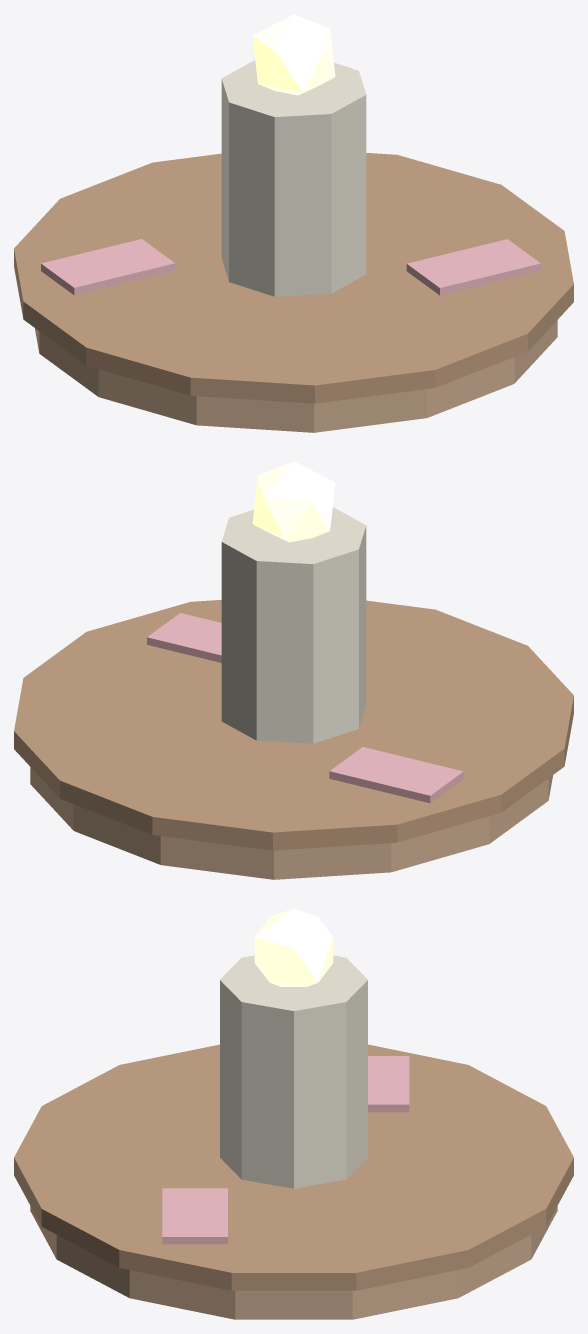
File: 18-Casas_decor_vela_plato.glb
The picture shows the model from 3 angles, top to bottom: view 1: azimuth 30°, elevation 25°; view 2: azimuth 150°, elevation 25°; view 3: azimuth 270°, elevation 25°; orthographic projection.
Parts seen in each view (by area): view 1: SM_VelaPlato_Borde, SM_VelaPlato_Vela, SM_VelaPlato_Plato, SM_VelaPlato_Llama, SM_VelaPlato_Petalo.001, SM_VelaPlato_Petalo; view 2: SM_VelaPlato_Borde, SM_VelaPlato_Vela, SM_VelaPlato_Plato, SM_VelaPlato_Llama, SM_VelaPlato_Petalo, SM_VelaPlato_Petalo.001; view 3: SM_VelaPlato_Borde, SM_VelaPlato_Vela, SM_VelaPlato_Plato, SM_VelaPlato_Llama, SM_VelaPlato_Petalo.001, SM_VelaPlato_Petalo.
Part boxes in pixels (left/top/right/bottom): SM_VelaPlato_Borde: left=14, top=153, right=573, bottom=403; SM_VelaPlato_Vela: left=221, top=60, right=366, bottom=296; SM_VelaPlato_Plato: left=35, top=320, right=557, bottom=432; SM_VelaPlato_Llama: left=252, top=14, right=335, bottom=95; SM_VelaPlato_Petalo.001: left=406, top=239, right=540, bottom=295; SM_VelaPlato_Petalo: left=41, top=239, right=175, bottom=295; SM_VelaPlato_Borde: left=14, top=600, right=573, bottom=850; SM_VelaPlato_Vela: left=221, top=507, right=366, bottom=743; SM_VelaPlato_Plato: left=30, top=767, right=552, bottom=879; SM_VelaPlato_Llama: left=252, top=461, right=335, bottom=542; SM_VelaPlato_Petalo: left=329, top=747, right=463, bottom=803; SM_VelaPlato_Petalo.001: left=147, top=613, right=221, bottom=662; SM_VelaPlato_Borde: left=14, top=1044, right=573, bottom=1290; SM_VelaPlato_Vela: left=220, top=955, right=367, bottom=1188; SM_VelaPlato_Plato: left=30, top=1206, right=557, bottom=1319; SM_VelaPlato_Llama: left=254, top=908, right=333, bottom=986; SM_VelaPlato_Petalo.001: left=162, top=1188, right=227, bottom=1244; SM_VelaPlato_Petalo: left=368, top=1056, right=409, bottom=1112.
Size of the model in its own units: 0.3315 by 0.203 by 0.34.
